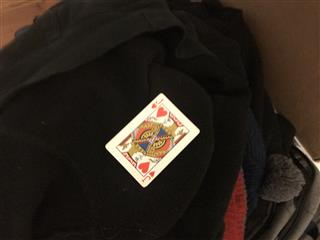JackOfHearts: (104, 92, 200, 187)
